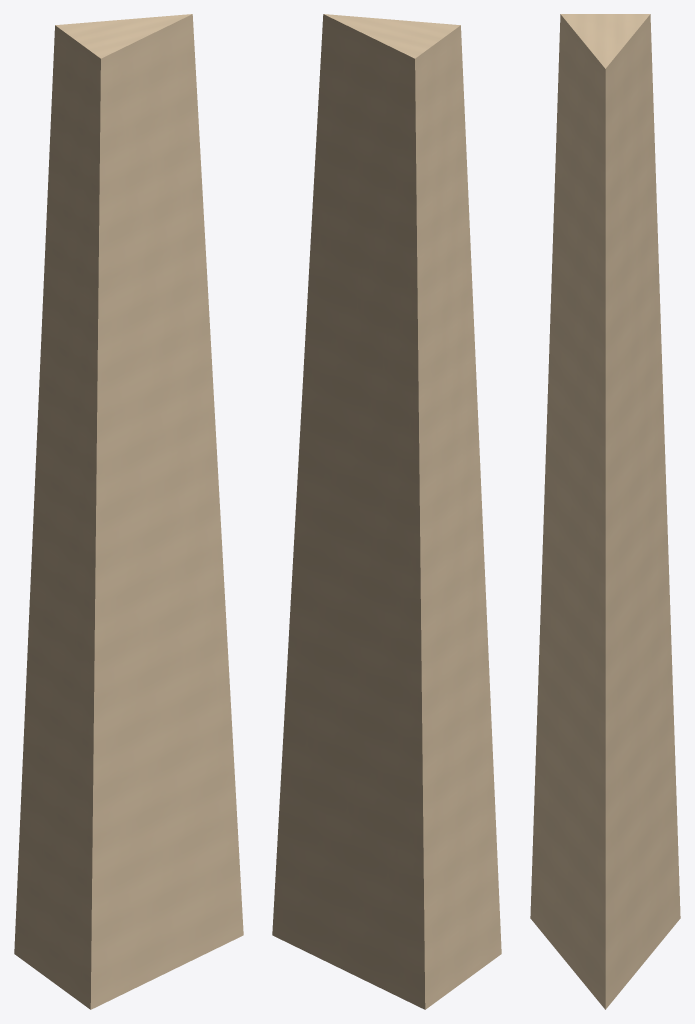
The model's file is atlas100-s082-a05.lod2.glb.
3 views of the same model, side by side, from view 1: azimuth 30°, elevation 25°; view 2: azimuth 150°, elevation 25°; view 3: azimuth 270°, elevation 25° (orthographic).
Parts seen in each view (by area): view 1: atlas100-s082-a05:part-000; view 2: atlas100-s082-a05:part-000; view 3: atlas100-s082-a05:part-000.
Part boxes in pixels (left/top/right/bottom): atlas100-s082-a05:part-000: left=14, top=14, right=243, bottom=1009; atlas100-s082-a05:part-000: left=272, top=14, right=501, bottom=1009; atlas100-s082-a05:part-000: left=530, top=14, right=680, bottom=1009.
Size of the model in its own units: 0.1638 by 0.7644 by 0.1135.
Materials: 1 (1 with a texture image).
